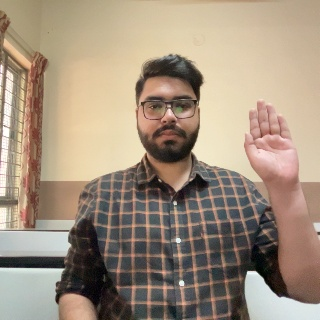Face: (136, 60, 201, 163)
Hello: (242, 99, 309, 202)
